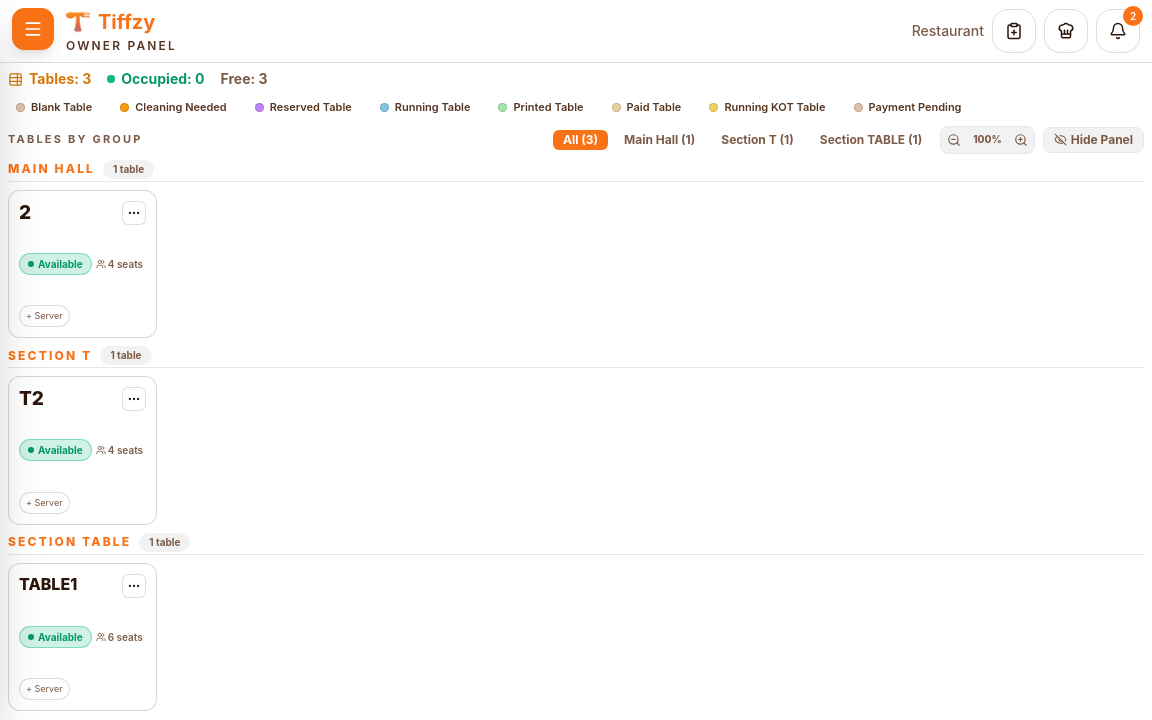
it: Tiffzy Owner Panel — COMPLETE QA AUDIT TEST SUITE › Primary Functional Areas Audit › TC-AUD-05: Area 7 - Server Removal unassigns server from table
// Assign kamalesh
Click the 1st button titled "Assign server for Table 2": x=44, y=316 [19, 305, 70, 327]
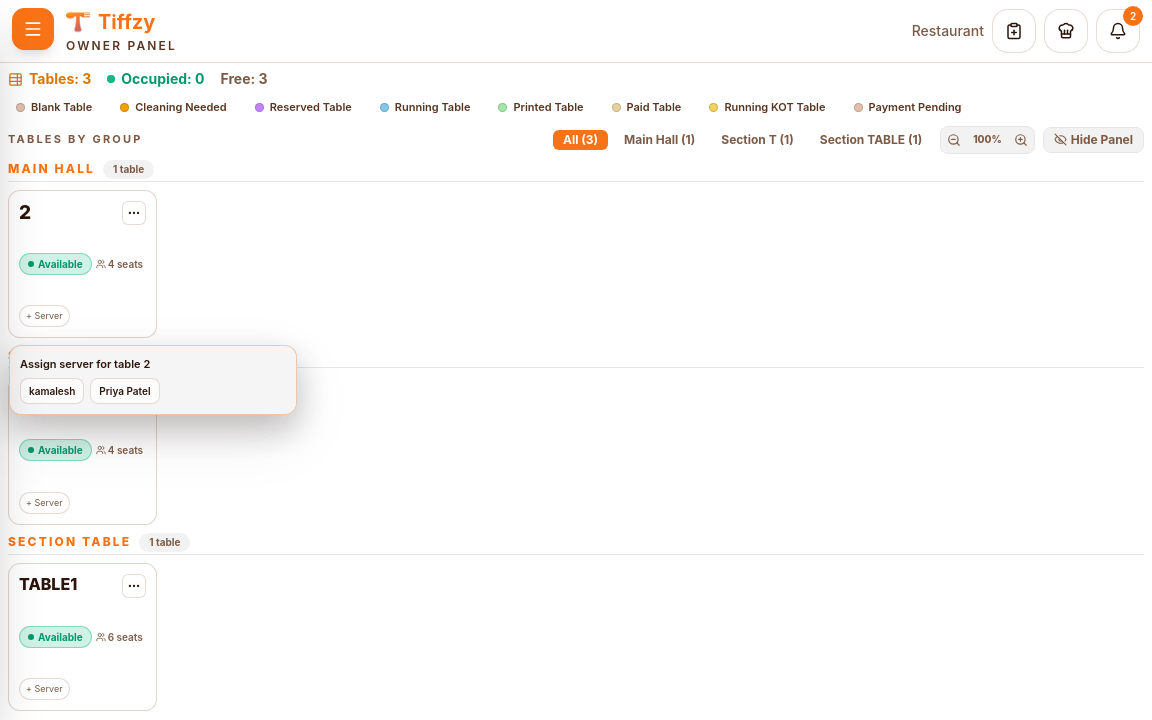
Check: the text "Assign server for table 2" is shown, box [20, 357, 150, 371]
Click the button "kamalesh": x=52, y=391 [20, 378, 84, 404]
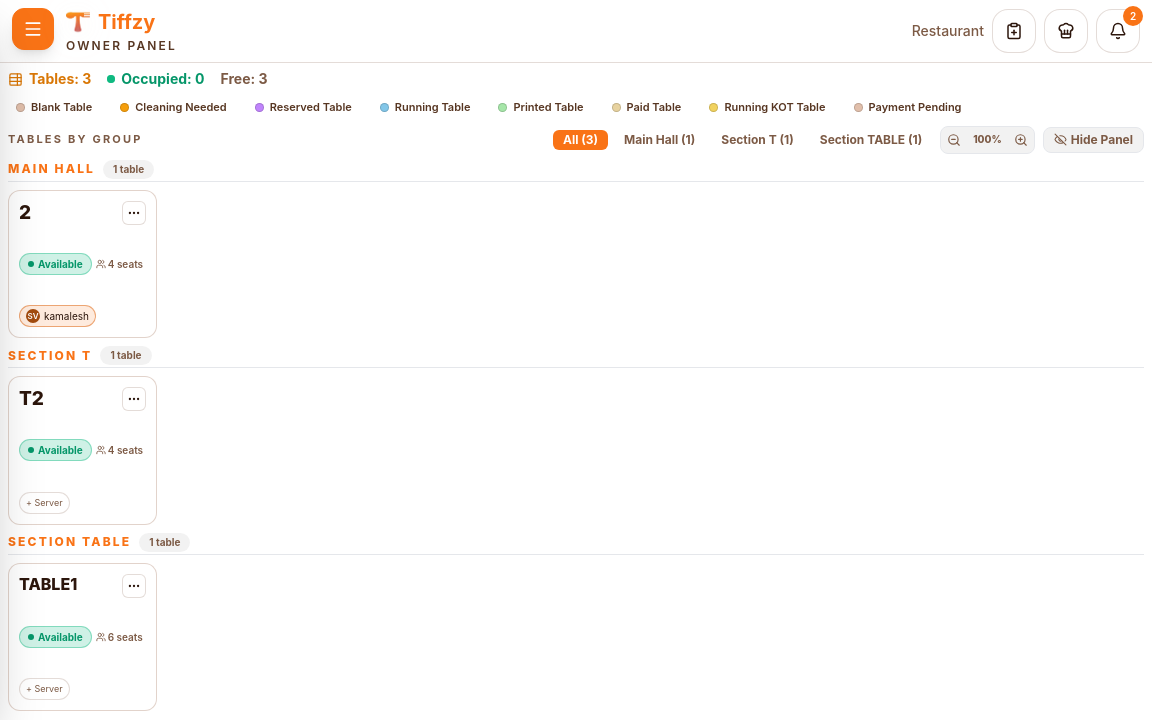
Check: the button titled "Assigned: kamalesh - Server" is shown
// Remove kamalesh
Click the button titled "Assigned: kamalesh - Server": x=57, y=316 [19, 305, 96, 327]
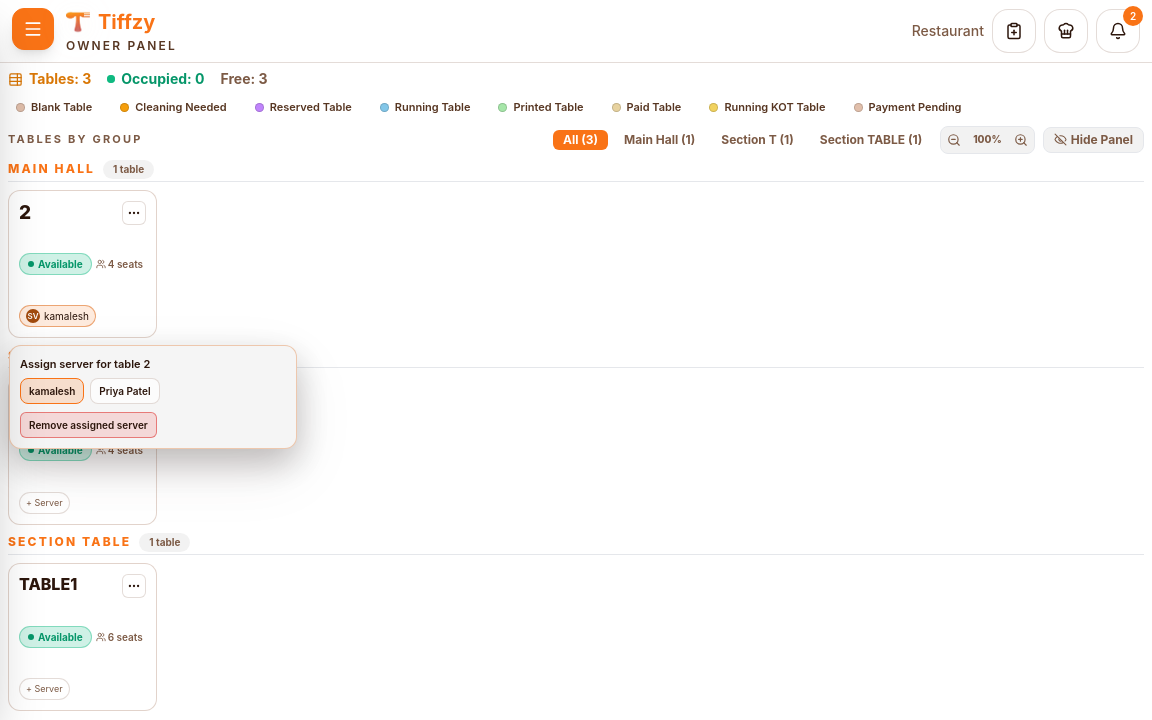
Check: the button "Remove assigned server" is shown
Click the button "Remove assigned server": x=88, y=425 [20, 412, 157, 438]
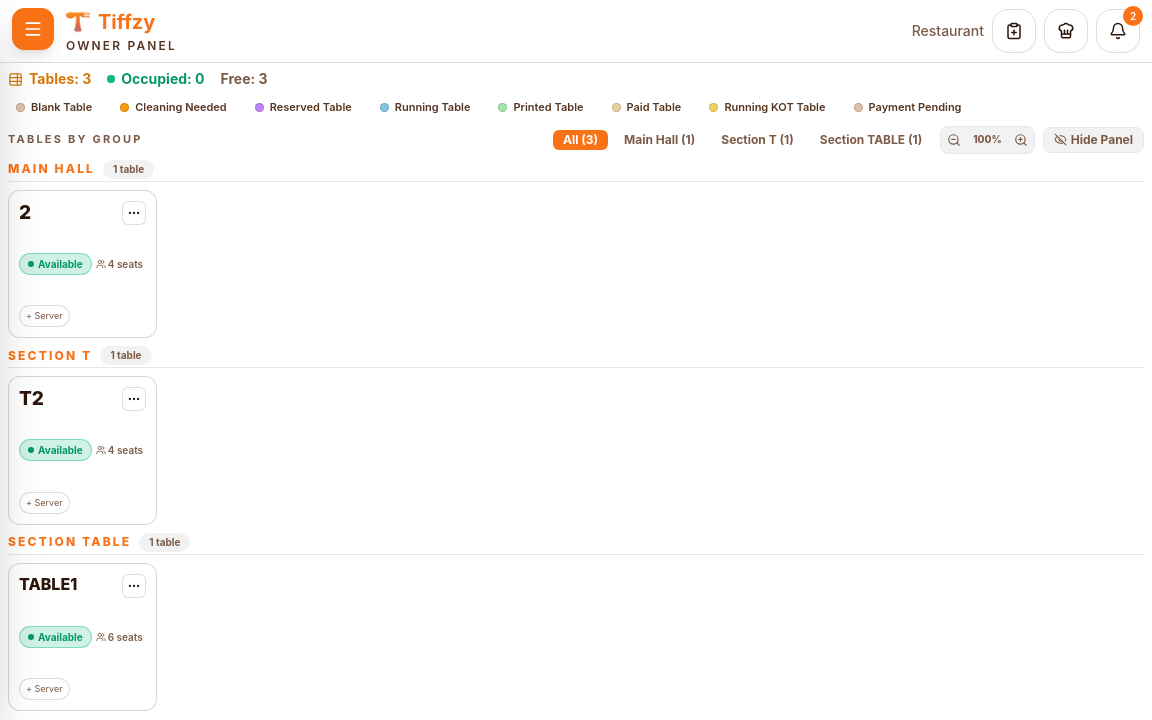
Check: the 1st button titled "Assign server for Table 2" is shown, box [19, 305, 70, 327]
